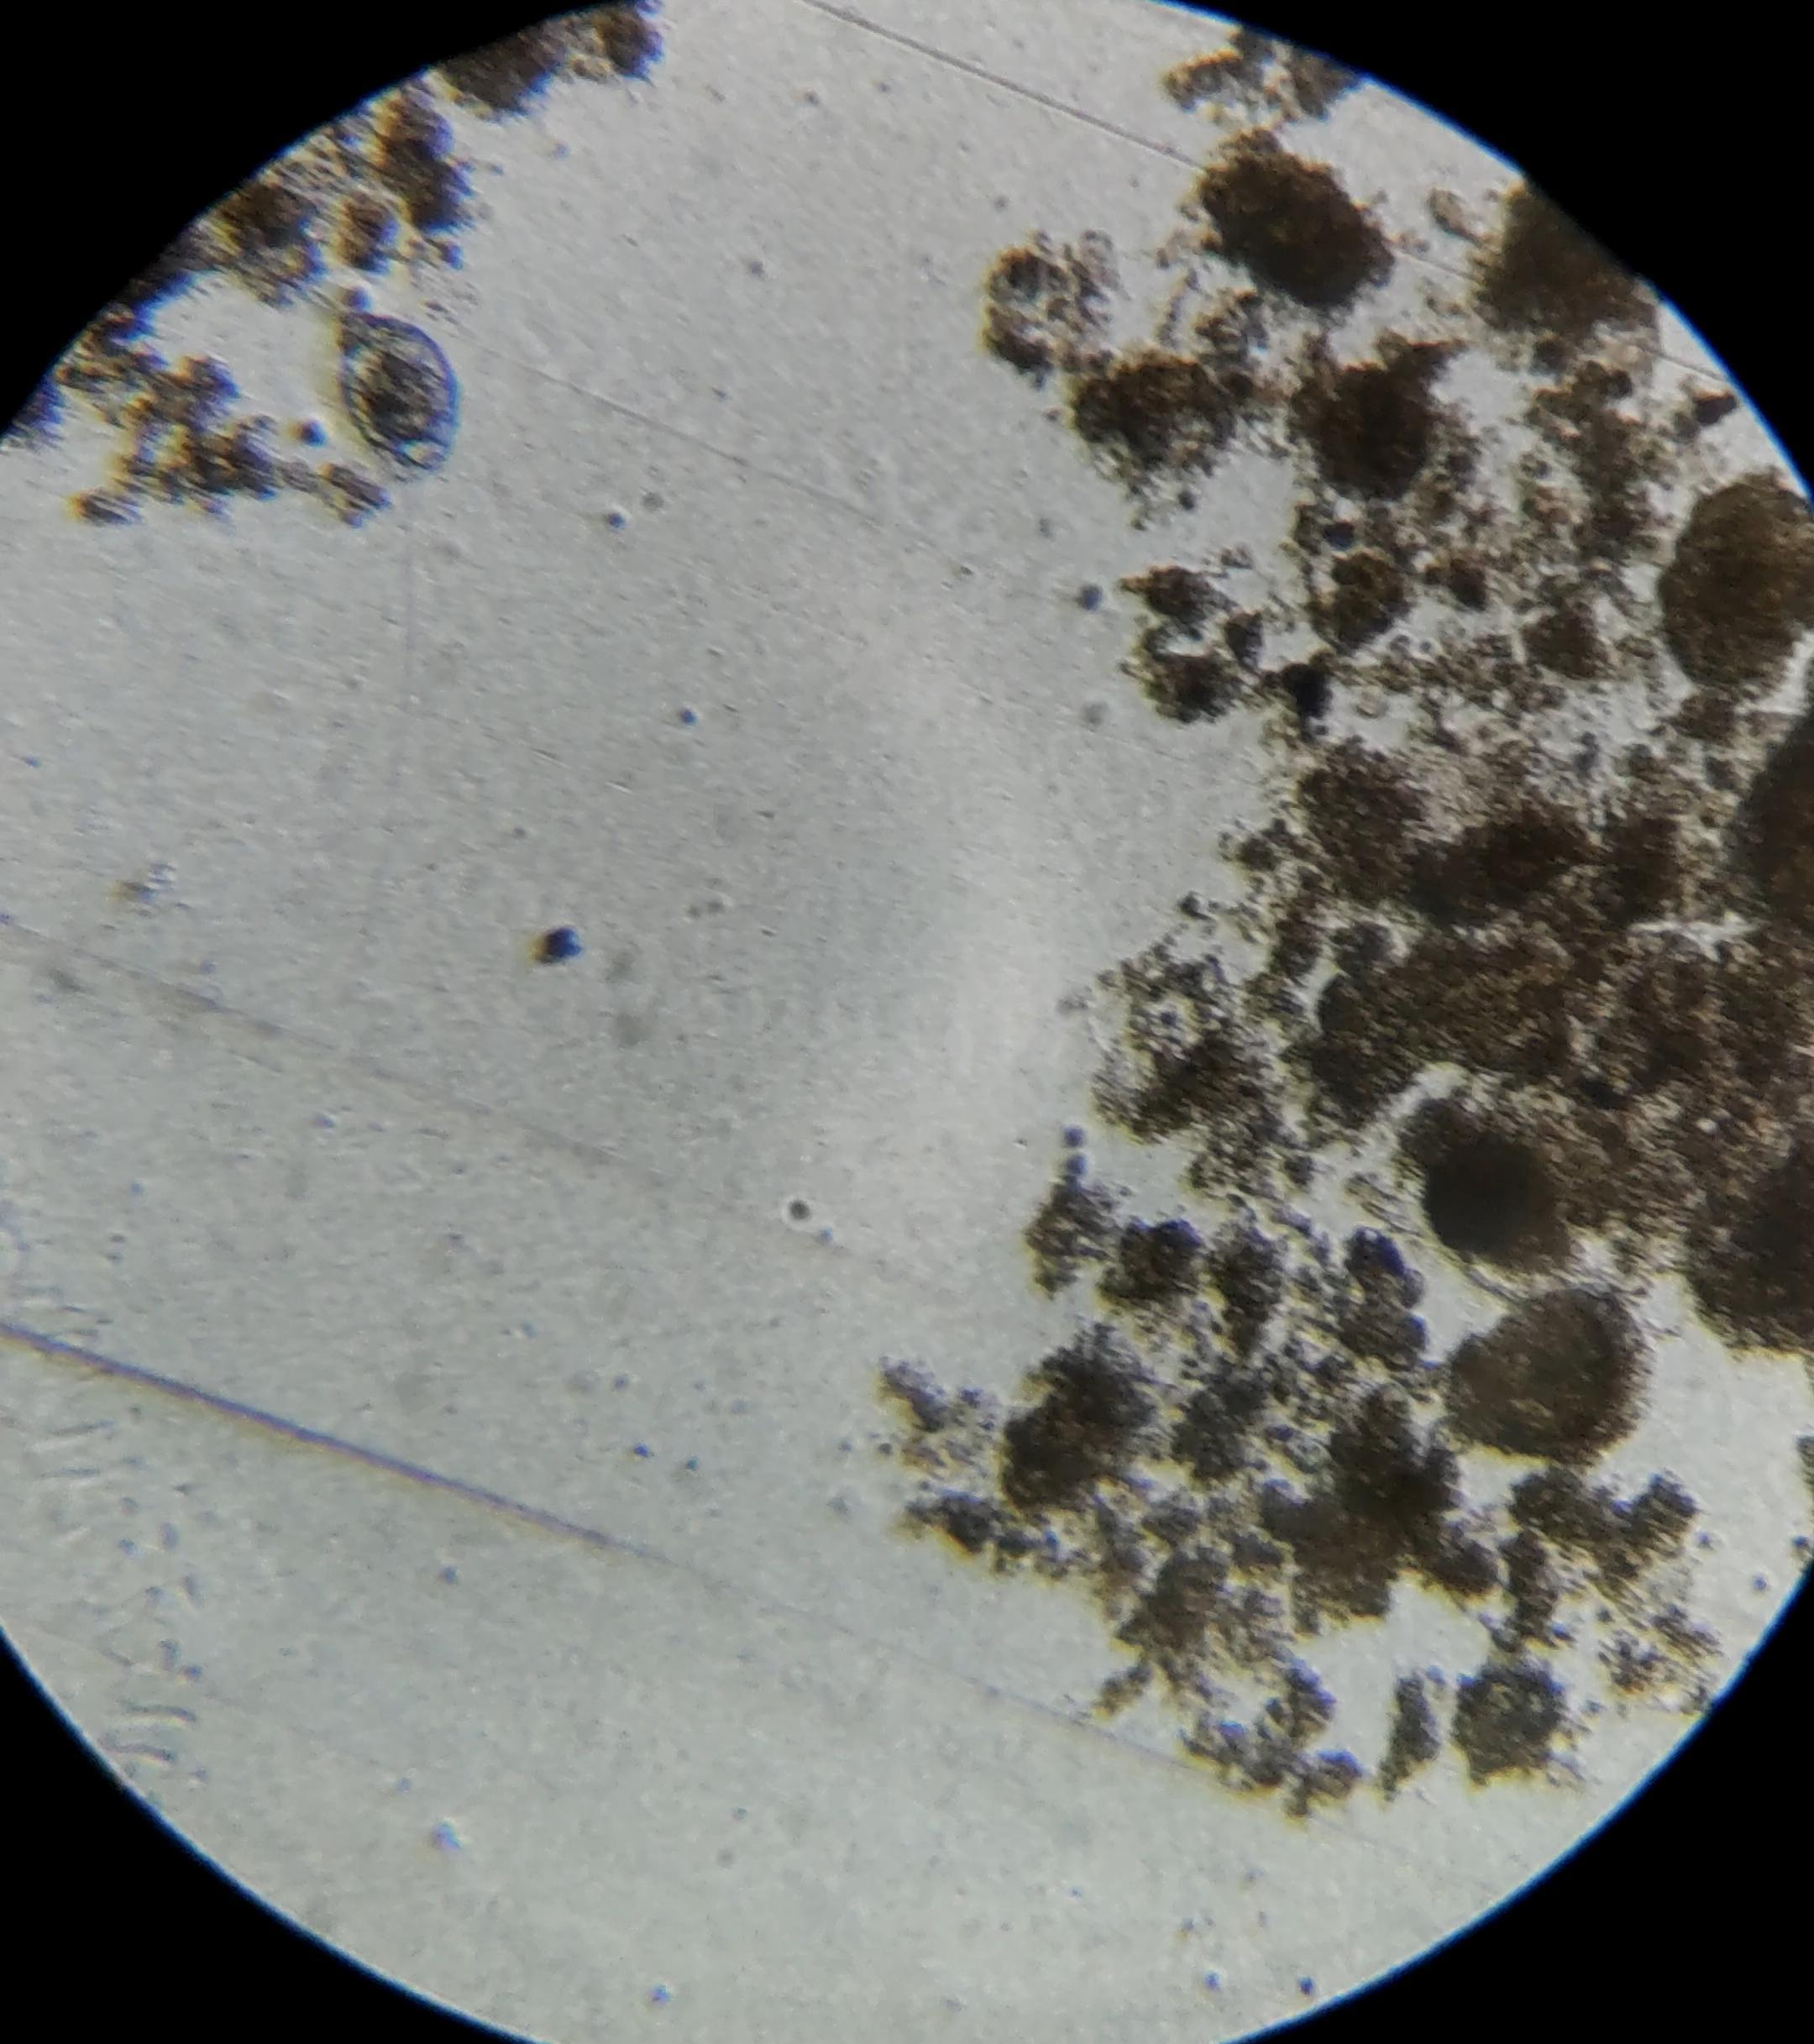Mo: (301, 285, 453, 483)
